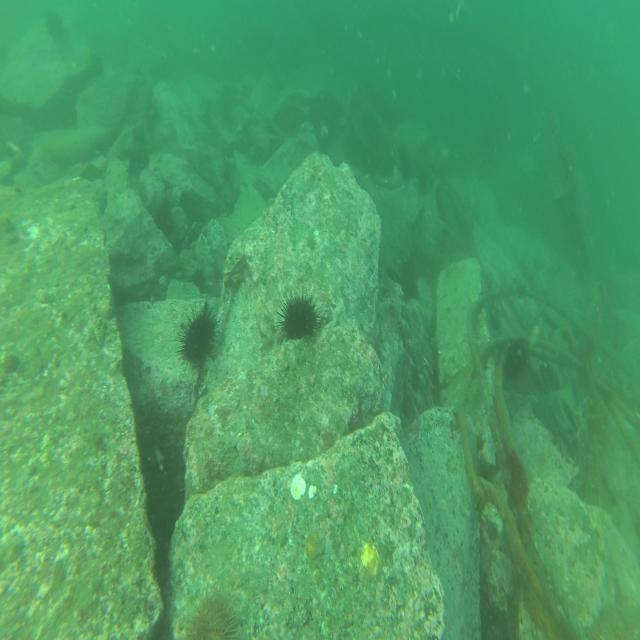echinus: (178, 301, 225, 369), (183, 590, 245, 640), (276, 291, 327, 345), (44, 5, 68, 42)
